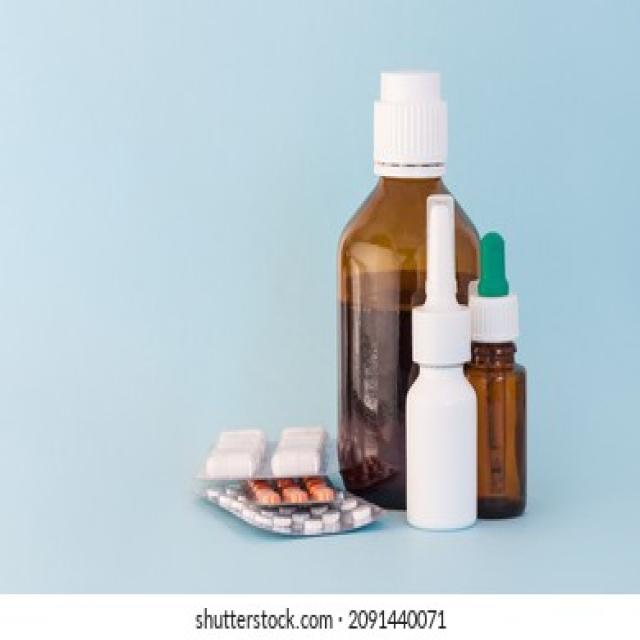B3: (328, 48, 437, 519), (459, 215, 545, 535)
